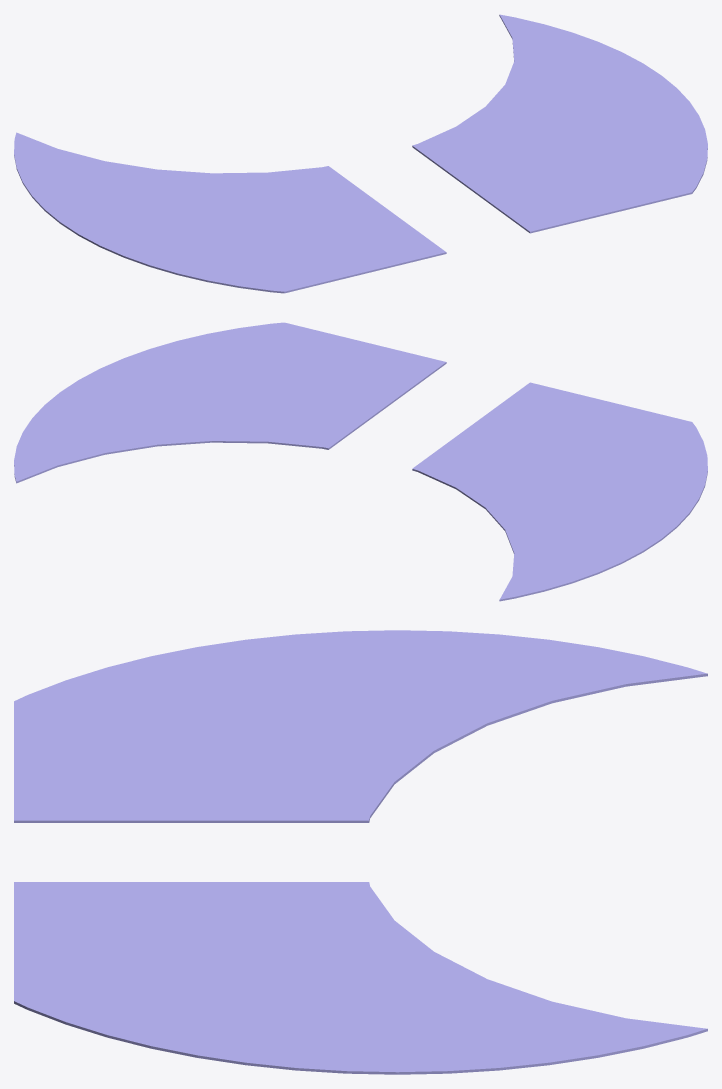
The model's file is SpawnCrowdArea.fbx.
The picture shows the model from 3 angles, top to bottom: view 1: azimuth 30°, elevation 25°; view 2: azimuth 150°, elevation 25°; view 3: azimuth 270°, elevation 25°; orthographic projection. The views are drawn at different scales.
Visible parts, largest first — view 1: SpawnCrowdArea2, SpawnCrowdArea1; view 2: SpawnCrowdArea1, SpawnCrowdArea2; view 3: SpawnCrowdArea1, SpawnCrowdArea2.
Part boxes in pixels (<box>): SpawnCrowdArea2: <box>14,132,446,293</box>; SpawnCrowdArea1: <box>412,14,707,233</box>; SpawnCrowdArea1: <box>14,322,446,483</box>; SpawnCrowdArea2: <box>412,382,707,601</box>; SpawnCrowdArea1: <box>14,882,707,1074</box>; SpawnCrowdArea2: <box>14,630,707,822</box>.
Bounding box in the file's own units: 6907 × 18.72 × 4583.
